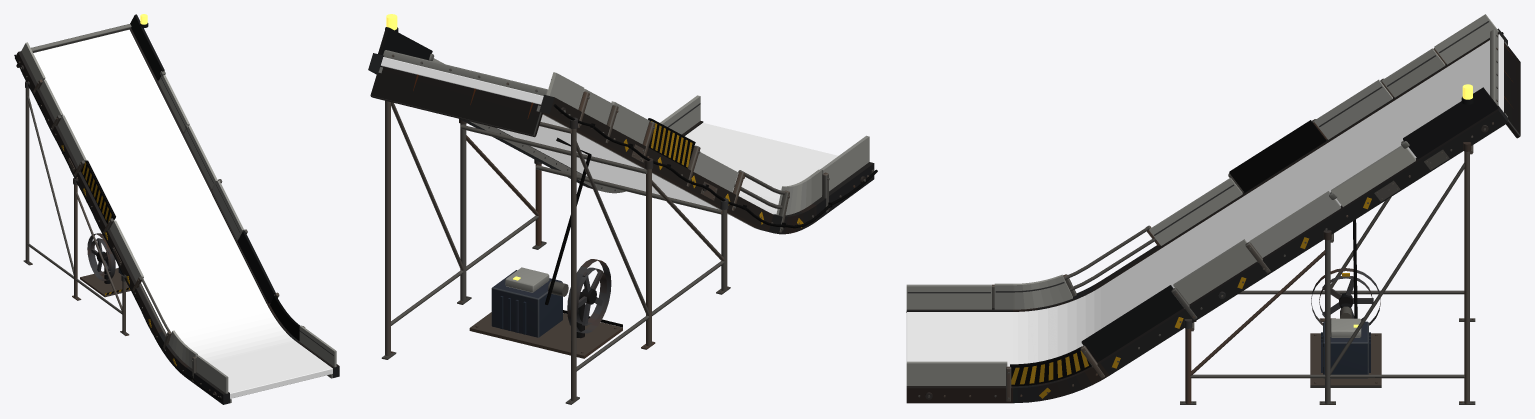
The model's file is launch_ramp.glb.
The picture shows the model from 3 angles, left to right: view 1: azimuth 30°, elevation 25°; view 2: azimuth 150°, elevation 25°; view 3: azimuth 270°, elevation 25°; orthographic projection. The views are drawn at different scales.
Parts seen in each view (by area): view 1: Belt, Frame, Flywheel; view 2: Frame, Belt, Flywheel; view 3: Frame, Belt, Flywheel.
Boxes of the visible parts, left/top/right/bottom form: Belt: left=33, top=29, right=332, bottom=398; Frame: left=14, top=14, right=339, bottom=404; Flywheel: left=87, top=233, right=115, bottom=280; Frame: left=368, top=14, right=877, bottom=404; Belt: left=381, top=57, right=837, bottom=214; Flywheel: left=567, top=259, right=611, bottom=333; Frame: left=906, top=14, right=1520, bottom=404; Belt: left=906, top=34, right=1503, bottom=366; Flywheel: left=1311, top=268, right=1380, bottom=325.
Size of the model in its own units: 2.02 by 3.41 by 6.01.
